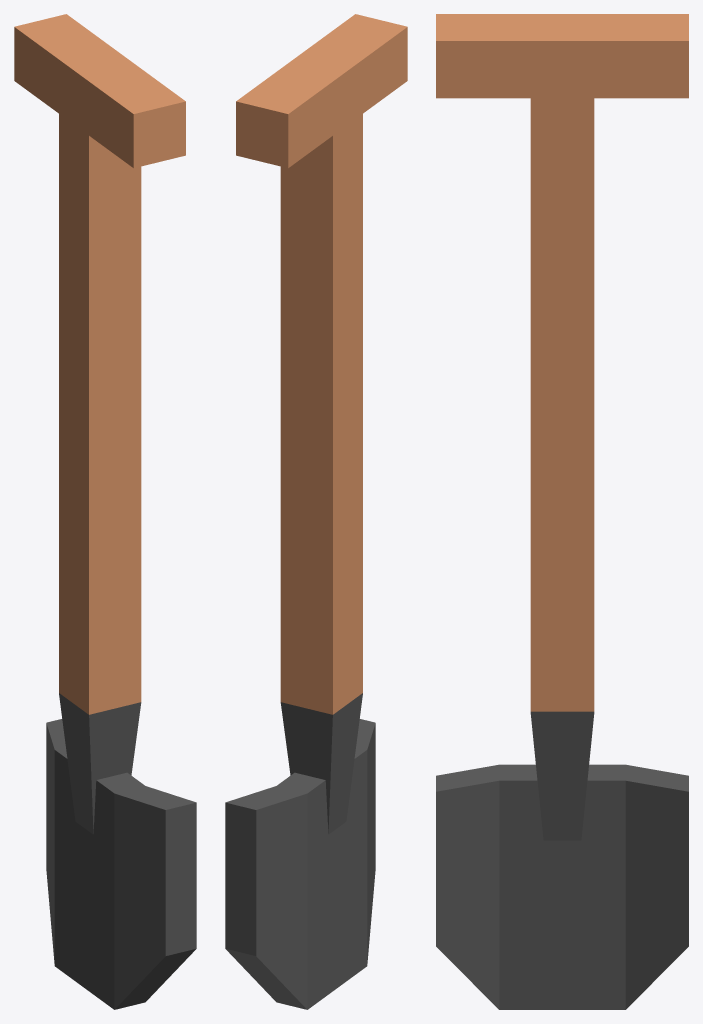
File: Shovel.fbx
3 views of the same model, side by side, from view 1: azimuth 30°, elevation 25°; view 2: azimuth 150°, elevation 25°; view 3: azimuth 270°, elevation 25° (orthographic). The views are drawn at different scales.
Parts seen in each view (by area): view 1: Shovel; view 2: Shovel; view 3: Shovel.
Part boxes in pixels (x1,y1,x2,y2): Shovel: (14,14,196,1009); Shovel: (225,14,407,1009); Shovel: (436,14,688,1009).
Bounding box in the file's own units: 12.2 × 170 × 40.
